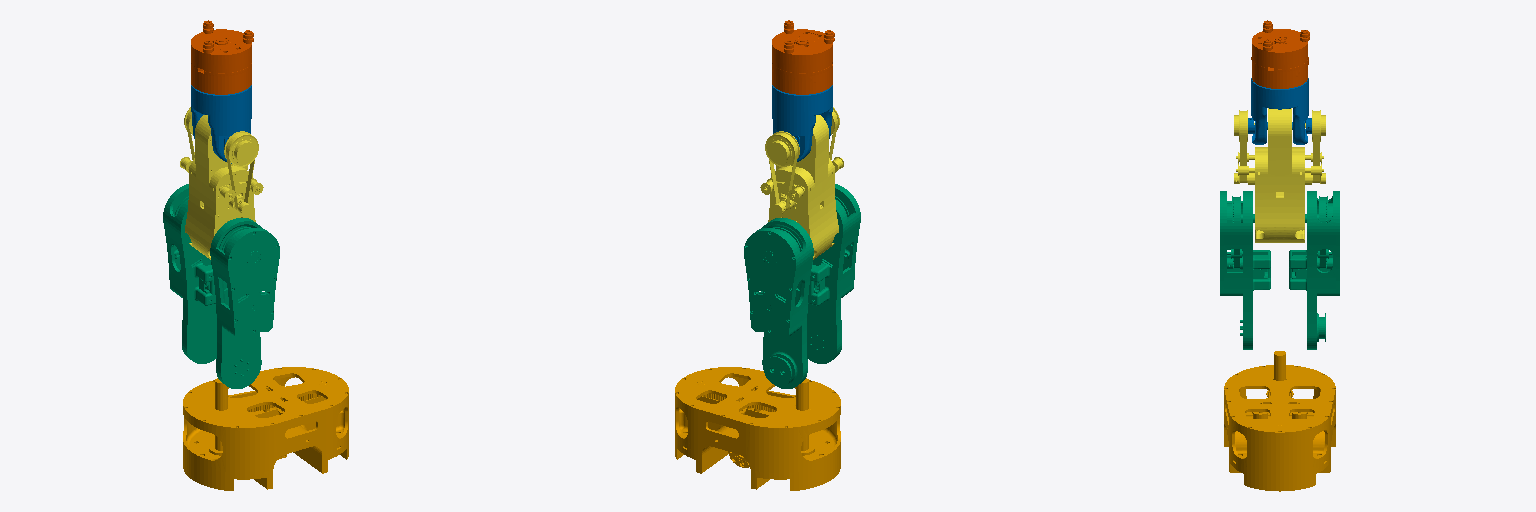
URDF robot description (robot_arm_5axis_centric):
<?xml version="1.0"?>
<!--
  robot_arm_5axis_centric.urdf   (v2)

  링크 길이 검증 완료 (DH modified/Craig 표와 오차 ~1e-16)
    joint3 origin z = 0.195   (joint2 -> joint3)
    joint4 origin z = 0.165   (joint3 -> joint4)
    TCP 오프셋       = 0.087 + 0.1245 = 0.2115  (joint5 회전축 위)

  home(모든 관절 0):
    TCP = (-0.0945, 0, 0.7665),  TCP z축 = [0, 0, 1]
    어깨(joint2) = (-0.0945, 0, 0.195),  최대 도달반경 0.5715 m

  <limit> lower/upper 는 아직 임시값(±3.14).
  관절 한계각이 정해지면 아래 3곳을 같은 값으로 맞출 것:
    1) 이 파일의 <limit>
    2) kinematics_ee_5axis.py 의 Q_MIN / Q_MAX
    3) 경로검사(path_collision_guard_ee_5axis.py) 쪽 검사값

  mesh filename 은 "robot_meshes/..." 상대경로.
  실행 노드가 mesh_dir 파라미터로 절대경로 치환한다.
-->
<robot name="robot_arm_5axis_centric">

  <!-- ===== LINKS ===== -->
  <link name="link1">
    <visual>
      <origin xyz="0 0 0" rpy="0 0 0"/>
      <geometry>
        <mesh filename="robot_meshes/link1.stl" scale="0.001 0.001 0.001"/>
      </geometry>
    </visual>
  </link>

  <link name="link2">
    <visual>
      <origin xyz="0 0 0" rpy="0 0 0"/>
      <geometry>
        <mesh filename="robot_meshes/link2.stl" scale="0.001 0.001 0.001"/>
      </geometry>
    </visual>
  </link>

  <link name="link3">
    <visual>
      <origin xyz="0 0 0" rpy="0 0 0"/>
      <geometry>
        <mesh filename="robot_meshes/link3.stl" scale="0.001 0.001 0.001"/>
      </geometry>
    </visual>
  </link>

  <link name="link4">
    <visual>
      <origin xyz="0 0 0" rpy="0 0 0"/>
      <geometry>
        <mesh filename="robot_meshes/link4.stl" scale="0.001 0.001 0.001"/>
      </geometry>
    </visual>
  </link>

  <link name="link5">
    <visual>
      <origin xyz="0 0 0" rpy="0 0 0"/>
      <geometry>
        <mesh filename="robot_meshes/link5.stl" scale="0.001 0.001 0.001"/>
      </geometry>
    </visual>
  </link>

  <link name="centric">
    <visual>
      <origin xyz="0 0 0" rpy="0 0 0"/>
      <geometry>
        <mesh filename="robot_meshes/centric.stl" scale="0.001 0.001 0.001"/>
      </geometry>
    </visual>
  </link>

  <!-- 형상 없는 TCP 프레임 -->
  <link name="centric_end"/>

  <!-- ===== JOINTS ===== -->

  <!-- base 회전 -->
  <joint name="joint1" type="revolute">
    <parent link="link1"/><child link="link2"/>
    <origin xyz="-0.0945 0 0.105" rpy="0 0 0"/>
    <axis xyz="0 0 1"/>
    <limit lower="-3.14" upper="3.14" effort="10" velocity="1"/>
  </joint>

  <!-- 사이클로이드 감속기 (dxl dir = -1) -->
  <joint name="joint2" type="revolute">
    <parent link="link2"/><child link="link3"/>
    <origin xyz="0 0 0.09" rpy="0 0 0"/>
    <axis xyz="0 1 0"/>
    <limit lower="-3.14" upper="3.14" effort="10" velocity="1"/>
  </joint>

  <!-- L2 = 0.195 -->
  <joint name="joint3" type="revolute">
    <parent link="link3"/><child link="link4"/>
    <origin xyz="0 0 0.195" rpy="0 0 0"/>
    <axis xyz="0 1 0"/>
    <limit lower="-3.14" upper="3.14" effort="10" velocity="1"/>
  </joint>

  <!-- L3 = 0.165 -->
  <joint name="joint4" type="revolute">
    <parent link="link4"/><child link="link5"/>
    <origin xyz="0 0 0.165" rpy="0 0 0"/>
    <axis xyz="0 1 0"/>
    <limit lower="-3.14" upper="3.14" effort="10" velocity="1"/>
  </joint>

  <!-- 그리퍼 회전. 이 축 위에 TCP가 놓이므로 q5는 TCP 위치를 바꾸지 않음 -->
  <joint name="joint5" type="revolute">
    <parent link="link5"/><child link="centric"/>
    <origin xyz="0 0 0.087" rpy="0 0 0"/>
    <axis xyz="0 0 1"/>
    <limit lower="-3.14" upper="3.14" effort="10" velocity="1"/>
  </joint>

  <!-- 고정 TCP.  0.087 + 0.1245 = 0.2115 -->
  <joint name="centric_fixed" type="fixed">
    <parent link="centric"/><child link="centric_end"/>
    <origin xyz="0 0 0.1245" rpy="0 0 0"/>
  </joint>

</robot>

--- What the picture shows (computed from the rendered views, not written in the file) ---
3 views of the same robot in one strip: view 1: azimuth 30°, elevation 25°; view 2: azimuth 150°, elevation 25°; view 3: azimuth 270°, elevation 25° (orthographic).
Robot: robot_arm_5axis_centric — 7 links, 6 joints (5 revolute, 1 fixed); root link link1; default pose: all joints at 0.
Links seen in each view (by area): view 1: link1, link3, link4, centric, link5; view 2: link1, link3, link4, centric, link5; view 3: link1, link3, link4, centric, link5.
Link boxes in pixels (left/top/right/bottom): link1: left=183, top=367, right=348, bottom=490; link3: left=163, top=184, right=279, bottom=388; link4: left=180, top=107, right=263, bottom=259; centric: left=191, top=20, right=253, bottom=94; link5: left=191, top=85, right=251, bottom=163; link1: left=675, top=367, right=840, bottom=490; link3: left=744, top=184, right=860, bottom=388; link4: left=760, top=107, right=843, bottom=259; centric: left=772, top=20, right=834, bottom=94; link5: left=772, top=85, right=832, bottom=161; link1: left=1224, top=351, right=1335, bottom=491; link3: left=1220, top=191, right=1339, bottom=349; link4: left=1234, top=108, right=1325, bottom=242; centric: left=1251, top=20, right=1309, bottom=88; link5: left=1248, top=78, right=1311, bottom=144.
Size in the robot's own frame: 0.2595 by 0.194 by 0.726 metres.
Meshes: 6 distinct files referenced, 5 mesh visuals loaded (5 binary STL); not drawn: 1 (reference not matched to a file when rendering).
